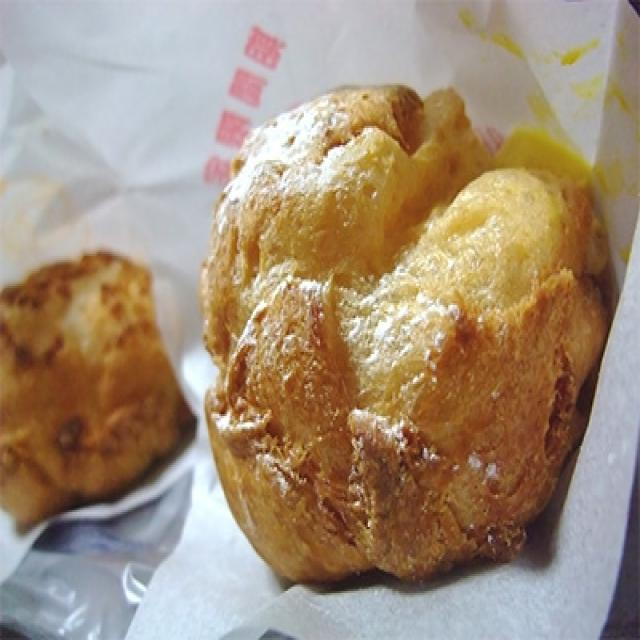炸货点心: (3, 4, 626, 634)
蛋糕甜品: (3, 4, 626, 634)
